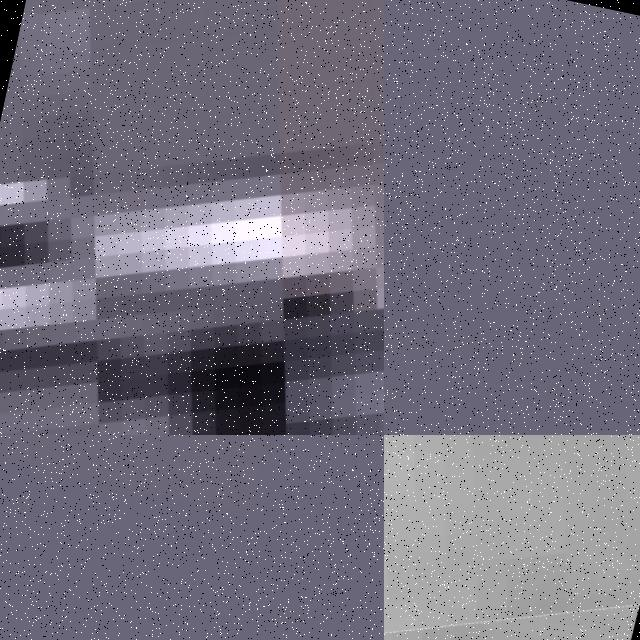drone: (0, 0, 384, 435), (384, 435, 640, 640)
